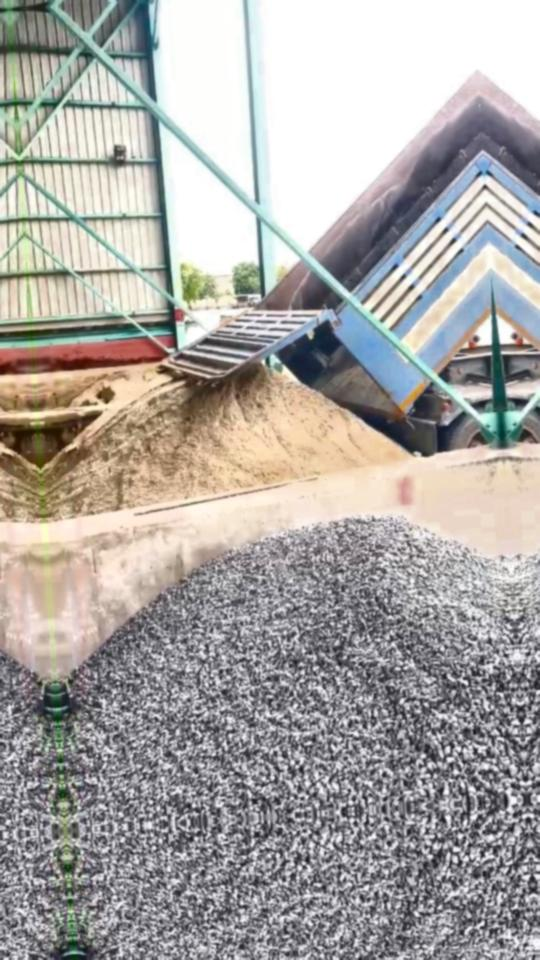gravel: (61, 516, 527, 829)
sand: (43, 366, 409, 519), (40, 371, 158, 415)
